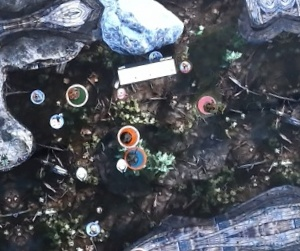green: (63, 81, 90, 108)
light_blue_orange: (122, 145, 149, 172)
orange: (116, 123, 143, 150)
pink_green: (194, 90, 222, 118)
